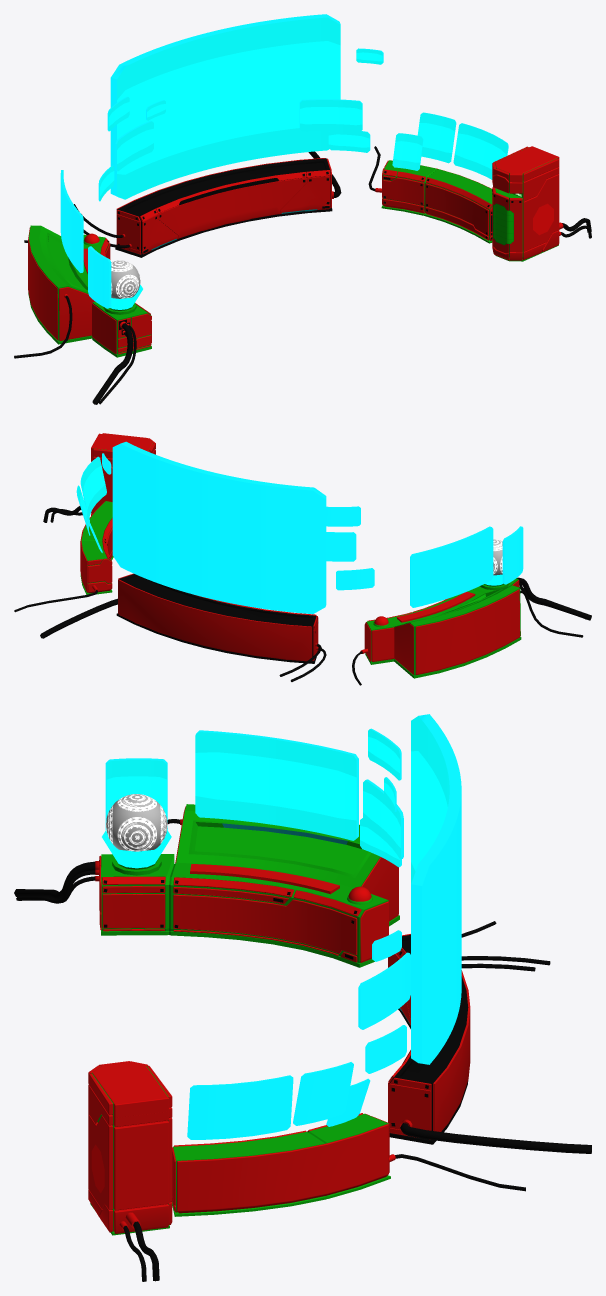
Rendered from SM0173_Lobby_HologramPanel_01.fbx.
3 renders of one model, top to bottom at view 1: azimuth 30°, elevation 25°; view 2: azimuth 150°, elevation 25°; view 3: azimuth 270°, elevation 25°, orthographic. The views are drawn at different scales.
Visible parts, largest first — view 1: SM0173_Lobby_HologramPanel_01, Panels_1.001, Panels_2.001, Panels_3.001; view 2: Panels_1.001, SM0173_Lobby_HologramPanel_01, Panels_2.001, Panels_3.001; view 3: SM0173_Lobby_HologramPanel_01, Panels_2.001, Panels_1.001, Panels_3.001.
Part boxes in pixels (x1,y1,x2,y2): SM0173_Lobby_HologramPanel_01: [14, 48, 591, 404]; Panels_1.001: [88, 14, 456, 308]; Panels_2.001: [60, 96, 508, 272]; Panels_3.001: [98, 99, 362, 201]; Panels_1.001: [76, 441, 523, 614]; SM0173_Lobby_HologramPanel_01: [14, 433, 591, 685]; Panels_2.001: [80, 456, 493, 607]; Panels_3.001: [336, 568, 374, 590]; SM0173_Lobby_HologramPanel_01: [14, 777, 591, 1281]; Panels_2.001: [187, 728, 406, 1139]; Panels_1.001: [105, 714, 461, 1125]; Panels_3.001: [358, 818, 410, 1029].
Size of the model in its own units: 3294 by 1902 by 1094.
